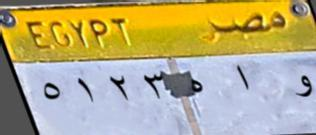1: (72, 74, 98, 110)
2: (110, 71, 132, 106)
3: (140, 68, 166, 108)
5: (39, 75, 64, 109)
alif: (233, 63, 256, 95)
haa: (187, 74, 205, 97)
waw: (288, 72, 315, 103)
